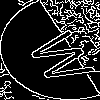W: (25, 25, 100, 87)
